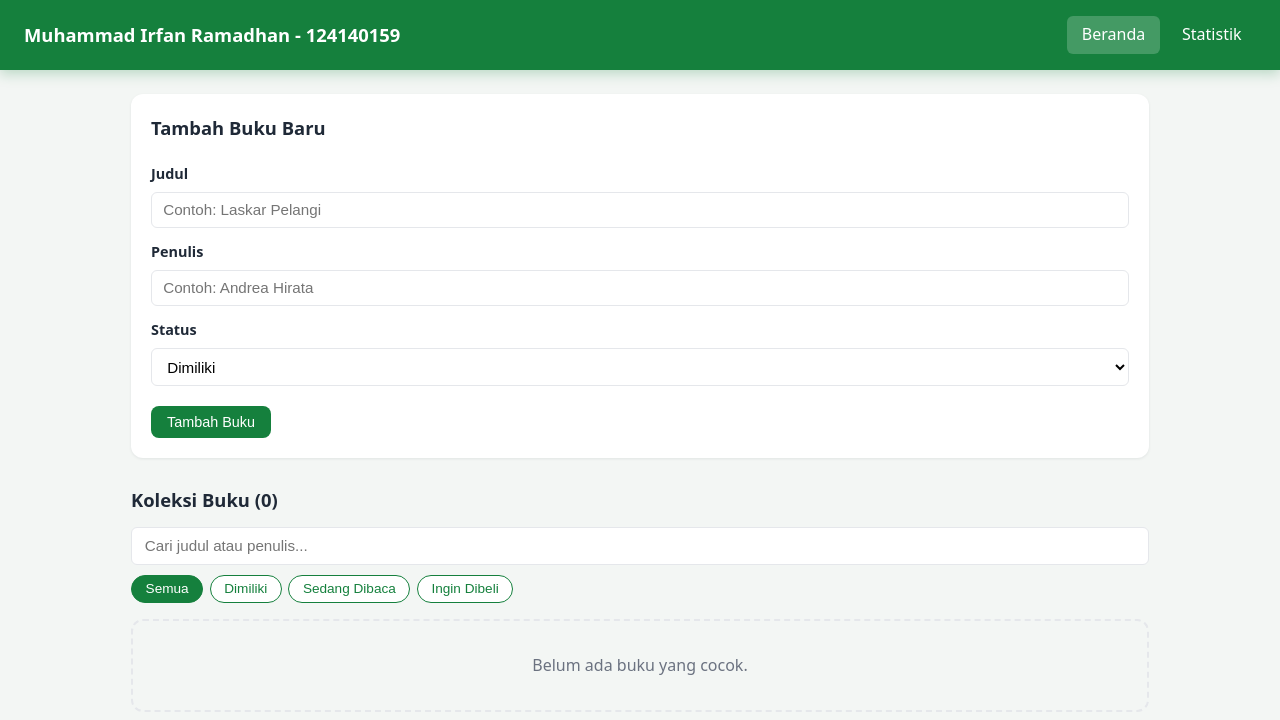
Test: Aplikasi Manajemen Buku › menambah buku lalu menyimpannya ke localStorage
Type "Laskar Pelangi" into the field labelled "Judul" at (640, 210), box [151,192,1129,228]
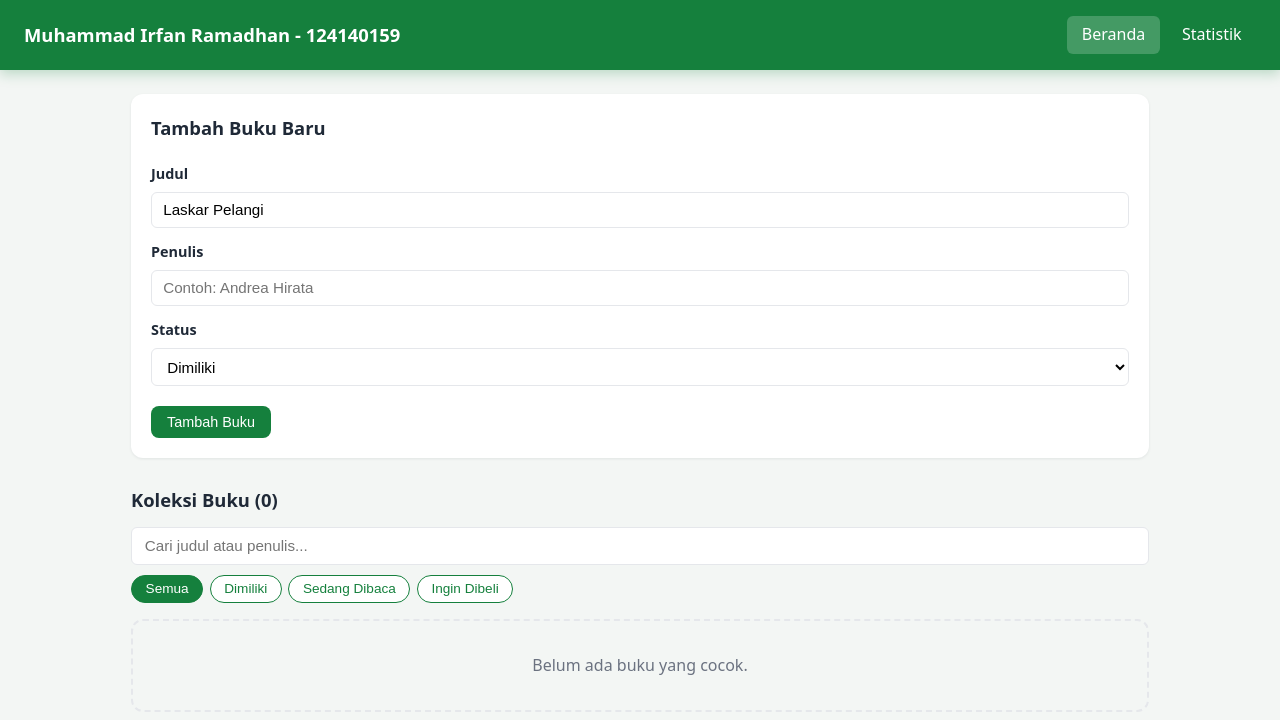
Type "Andrea Hirata" into the field labelled "Penulis" at (640, 288), box [151,270,1129,306]
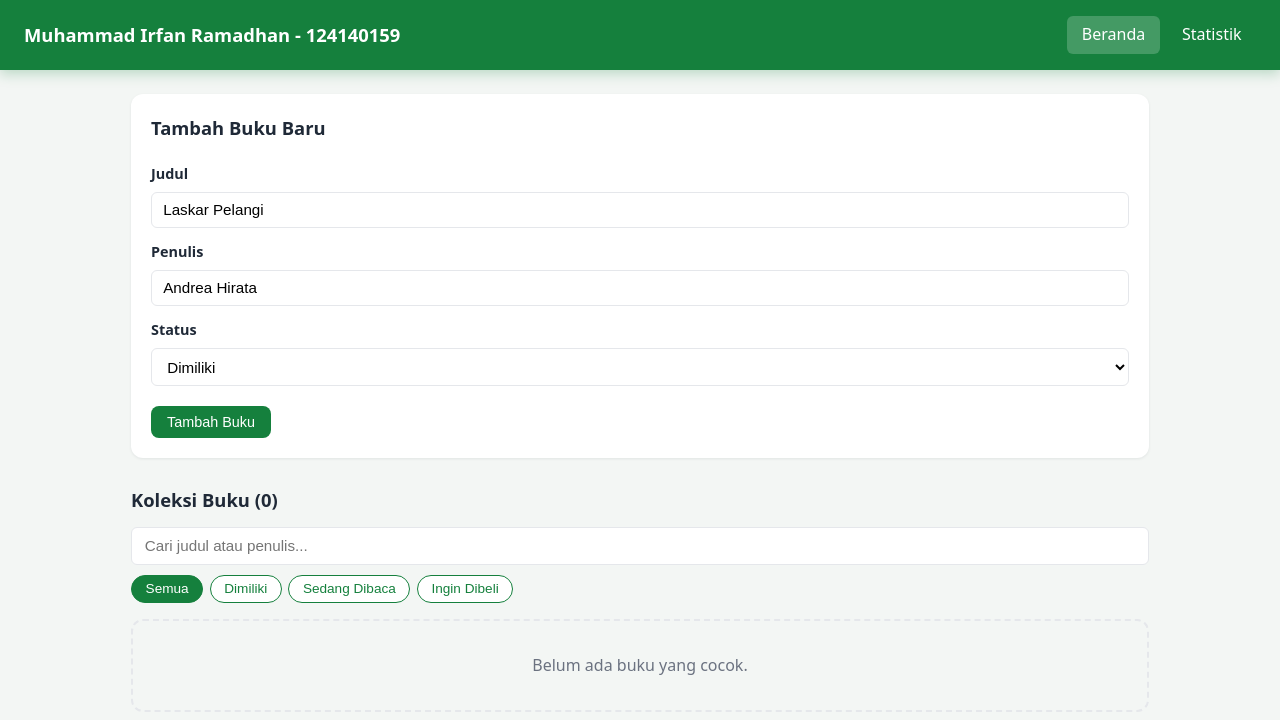
Select "Dimiliki" in the dropdown labelled "Status" at (640, 367), box [151,348,1129,386]
Click the button "Tambah Buku" at (211, 422), box [151,406,271,438]
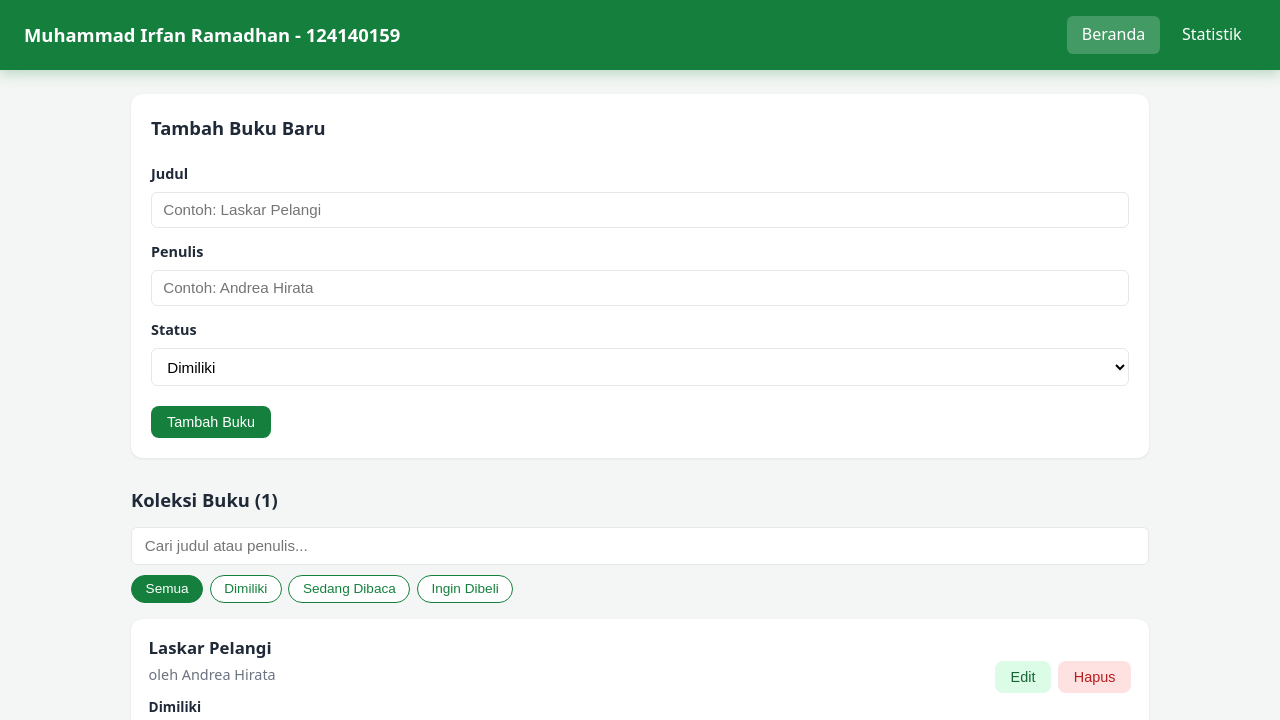
Result: the heading "Laskar Pelangi" is shown at [149,635,276,661]
